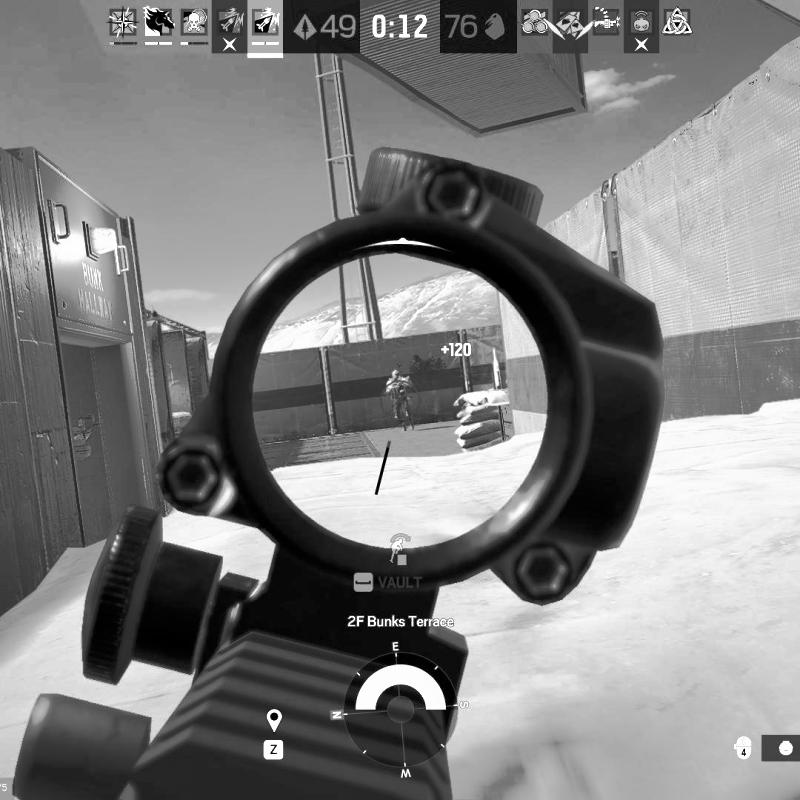Character: (384, 369, 415, 434)
Head: (391, 369, 400, 381)
